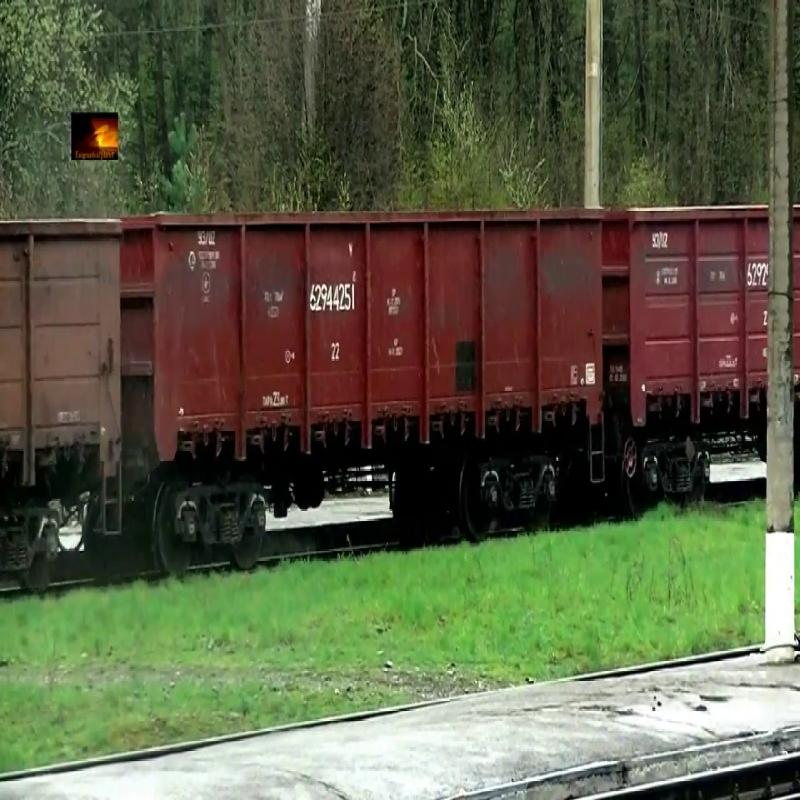train: (124, 206, 607, 467), (606, 207, 772, 431), (1, 217, 124, 493)
